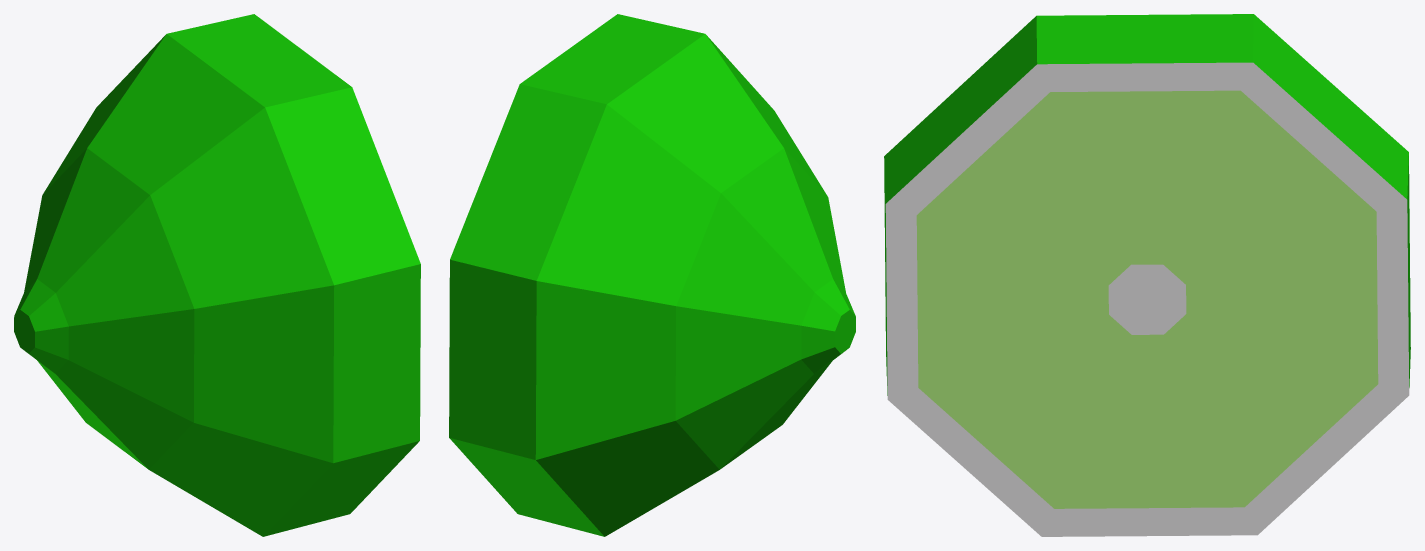
The model's file is lime02.gltf.
3 renders of one model, left to right at view 1: azimuth 30°, elevation 25°; view 2: azimuth 150°, elevation 25°; view 3: azimuth 270°, elevation 25°, orthographic. The views are drawn at different scales.
Parts seen in each view (by area): view 1: Cylinder.001; view 2: Cylinder.001; view 3: Cylinder.001.
Boxes of the visible parts, left/top/right/bottom form: Cylinder.001: left=14, top=14, right=420, bottom=536; Cylinder.001: left=449, top=14, right=855, bottom=536; Cylinder.001: left=884, top=14, right=1410, bottom=536.
Bounding box in the file's own units: 0.0239 × 0.0356 × 0.0356.
Materials: 1 (1 with a texture image).
